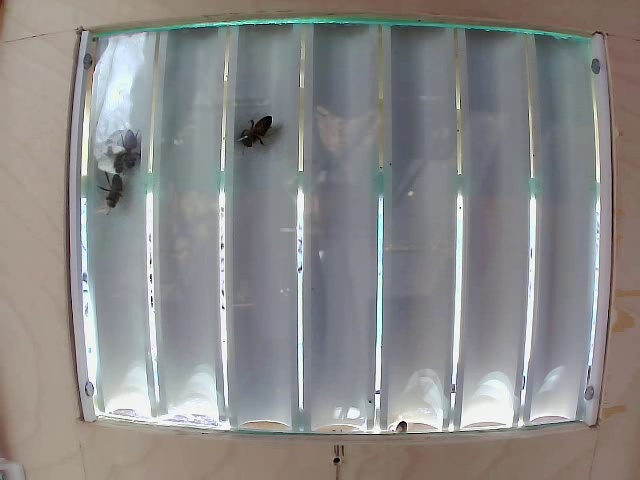bee: (94, 171, 129, 218), (244, 112, 278, 154), (113, 120, 141, 165)
